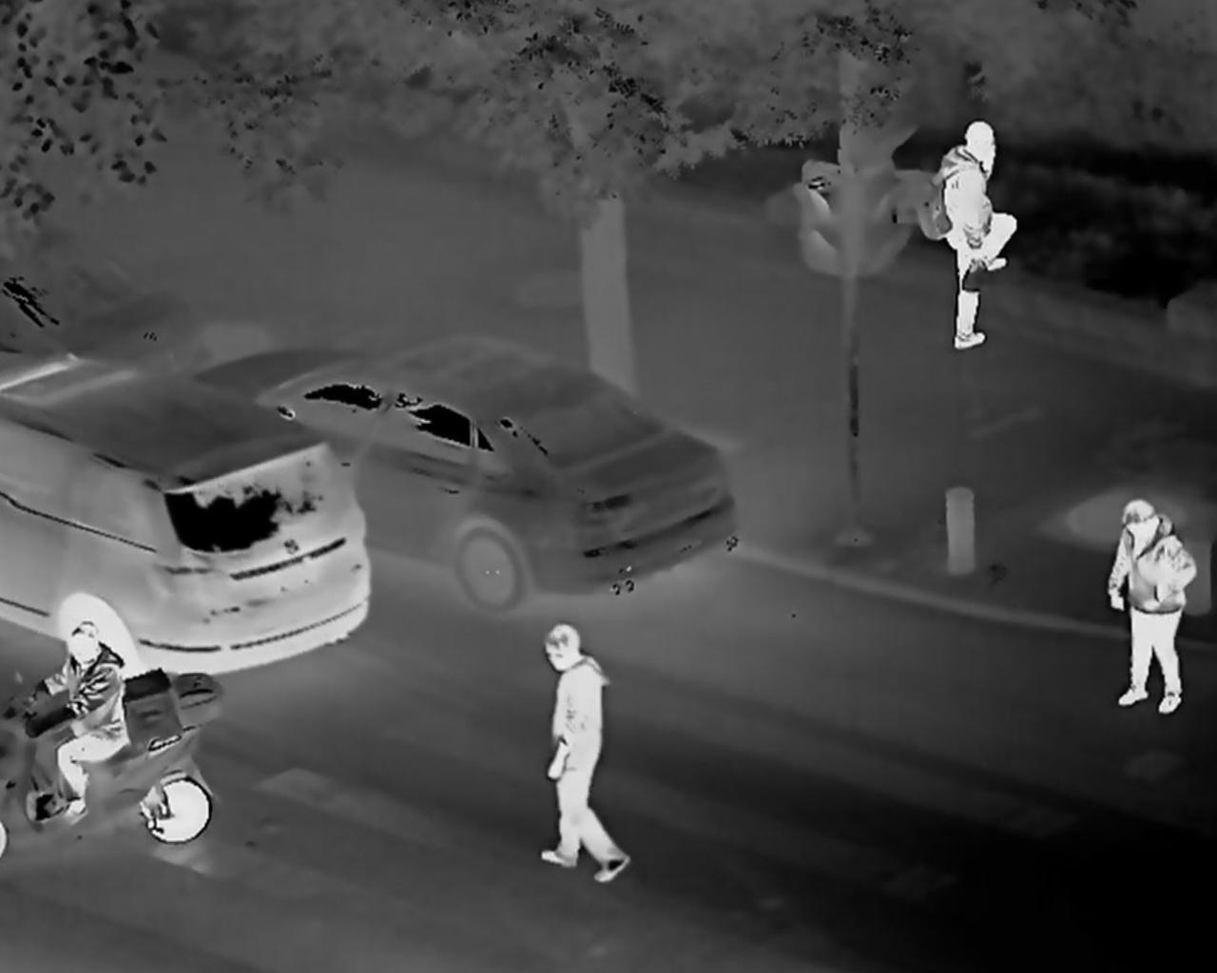person: (530, 620, 637, 888), (925, 118, 1030, 358), (1102, 498, 1196, 720), (42, 618, 140, 826)
